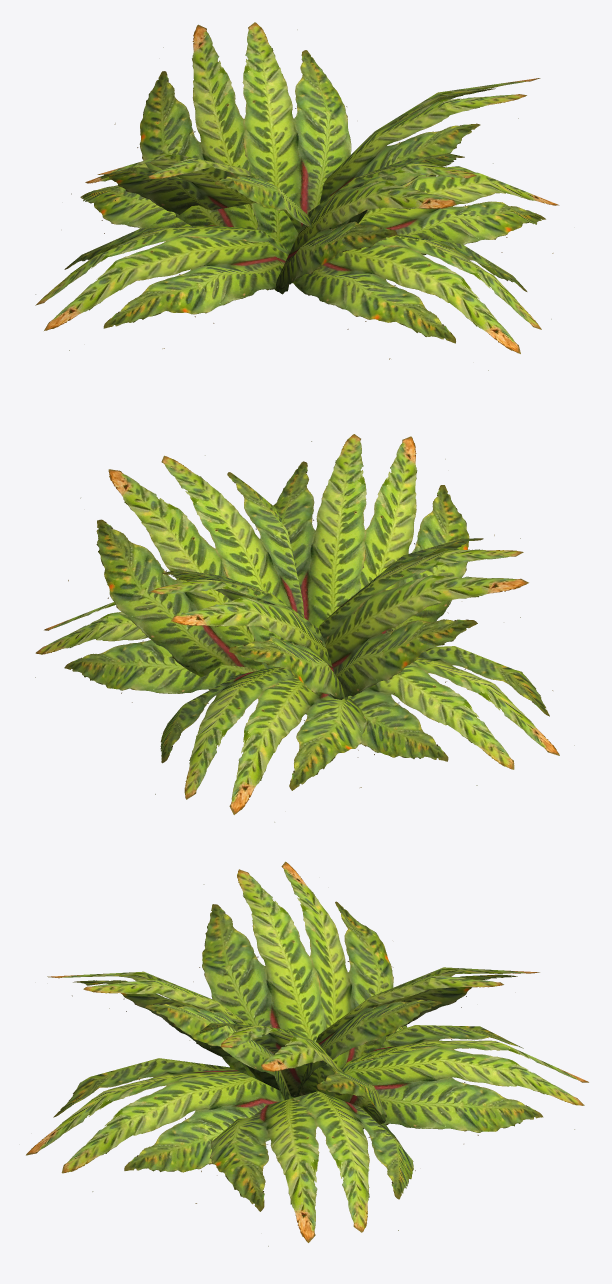
File: plant a.dae
3 views of the same model, one above another, from view 1: azimuth 30°, elevation 25°; view 2: azimuth 150°, elevation 25°; view 3: azimuth 270°, elevation 25° (orthographic).
Parts seen in each view (by area): view 1: plant_a; view 2: plant_a; view 3: plant_a.
Boxes of the visible parts, <box> form: plant_a: <box>35,22,559,370</box>; plant_a: <box>35,434,574,822</box>; plant_a: <box>26,861,588,1246</box>.
Size of the model in its own units: 53.51 by 20.93 by 52.53.
1 material, 1 textured.
